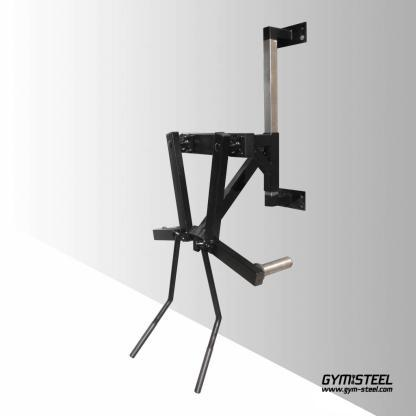lateral raises machine: (128, 19, 309, 394)
